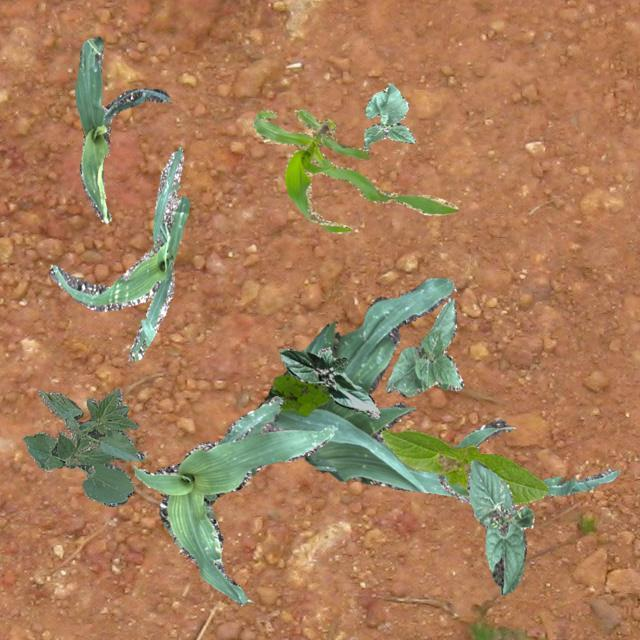crop: (260, 276, 516, 514), (132, 394, 332, 604), (48, 146, 188, 360), (253, 108, 457, 232), (74, 34, 170, 222), (438, 418, 620, 502), (22, 386, 144, 506), (380, 428, 548, 503), (466, 458, 532, 594), (384, 296, 462, 396), (278, 346, 378, 418), (362, 82, 414, 150)
weed: (272, 374, 330, 416)
